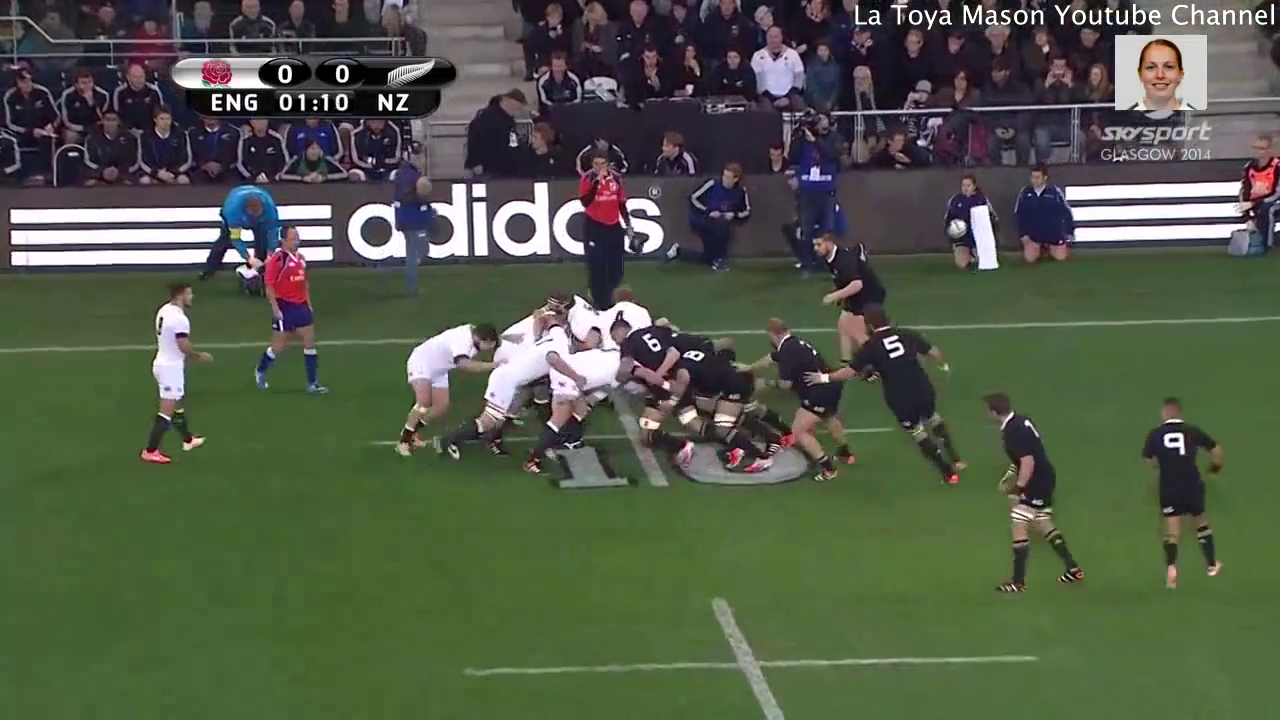maul: (383, 288, 821, 481)
player: (830, 302, 984, 494), (1132, 385, 1240, 603), (979, 388, 1091, 596), (746, 315, 864, 477), (125, 265, 213, 481), (389, 316, 501, 457), (251, 215, 324, 410), (520, 344, 622, 465), (669, 341, 768, 450), (802, 232, 881, 343)
